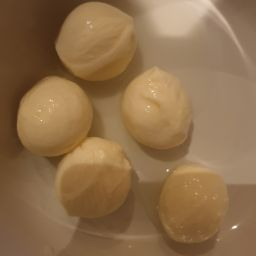Mini Mozzarella Cheese: (18, 5, 229, 256), (145, 151, 236, 249), (9, 68, 101, 161), (61, 136, 141, 230), (45, 3, 142, 80), (118, 63, 198, 156)
